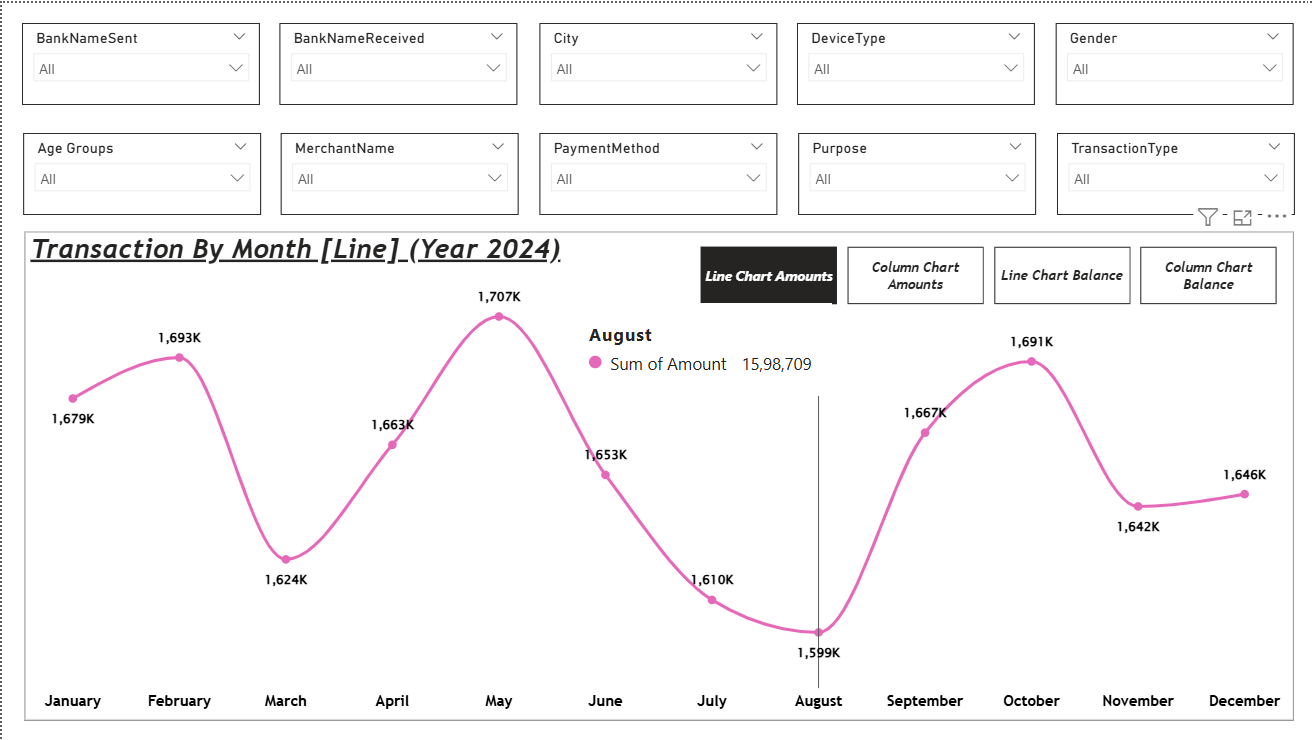

The page's visual inventory and layout, read from the dashboard file:
{"tool":"powerbi","page":{"name":"Page 1","canvas":[1280,720],"ordinal":0},"visuals":[{"type":"slicer","fields":{"Values":["UPI Transaction.BankNameSent"]},"box":[20,20,232,80],"z":0},{"type":"slicer","fields":{"Values":["UPI Transaction.BankNameReceived"]},"box":[271,20,232,80],"z":1000},{"type":"slicer","fields":{"Values":["UPI Transaction.City"]},"box":[524,20,232,80],"z":2000},{"type":"slicer","fields":{"Values":["UPI Transaction.DeviceType"]},"box":[776,20,232,80],"z":3000},{"type":"slicer","fields":{"Values":["UPI Transaction.Gender"]},"box":[1028,20,232,80],"z":4000},{"type":"slicer","fields":{"Values":["UPI Transaction.Age Groups"]},"box":[20.9,127.1,232,80],"z":5000},{"type":"slicer","fields":{"Values":["UPI Transaction.MerchantName"]},"box":[271.9,127.1,232,80],"z":6000},{"type":"slicer","fields":{"Values":["UPI Transaction.PaymentMethod"]},"box":[524.9,127.1,232,80],"z":7000},{"type":"slicer","fields":{"Values":["UPI Transaction.Purpose"]},"box":[776.9,127.1,232,80],"z":8000},{"type":"slicer","fields":{"Values":["UPI Transaction.TransactionType"]},"box":[1028.9,127.1,232,80],"z":9000},{"type":"lineChart","title":"  Transaction By Month [Line] (Year 2024)","fields":{"Y":["Sum(UPI Transaction.Amount)"],"Category":["UPI Transaction.TransactionDate.Variation.Date Hierarchy.Month"]},"box":[21.7,223.3,1238.3,476.7],"z":10000},{"type":"bookmarkNavigator","box":[682,238,564,56],"z":14500}]}

Visuals, with their boxes in screenshot pixels (x1, y1, x2, y2), scaled from the page's 1280x720 canvas onto the 1312x740 screenshot:
slicer - UPI Transaction.BankNameSent: 20/21/258/103
slicer - UPI Transaction.BankNameReceived: 278/21/516/103
slicer - UPI Transaction.City: 537/21/775/103
slicer - UPI Transaction.DeviceType: 795/21/1033/103
slicer - UPI Transaction.Gender: 1054/21/1292/103
slicer - UPI Transaction.Age Groups: 21/131/259/213
slicer - UPI Transaction.MerchantName: 279/131/516/213
slicer - UPI Transaction.PaymentMethod: 538/131/776/213
slicer - UPI Transaction.Purpose: 796/131/1034/213
slicer - UPI Transaction.TransactionType: 1055/131/1292/213
"  Transaction By Month [Line] (Year 2024)" lineChart: 22/230/1292/719
bookmarkNavigator: 699/245/1277/302
